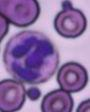N: (3, 30, 59, 83)
